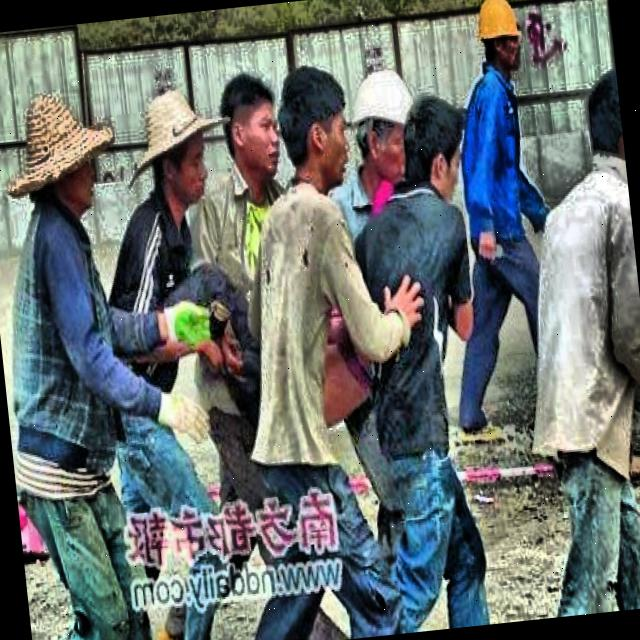helmet: (346, 62, 424, 190), (472, 0, 529, 74)
